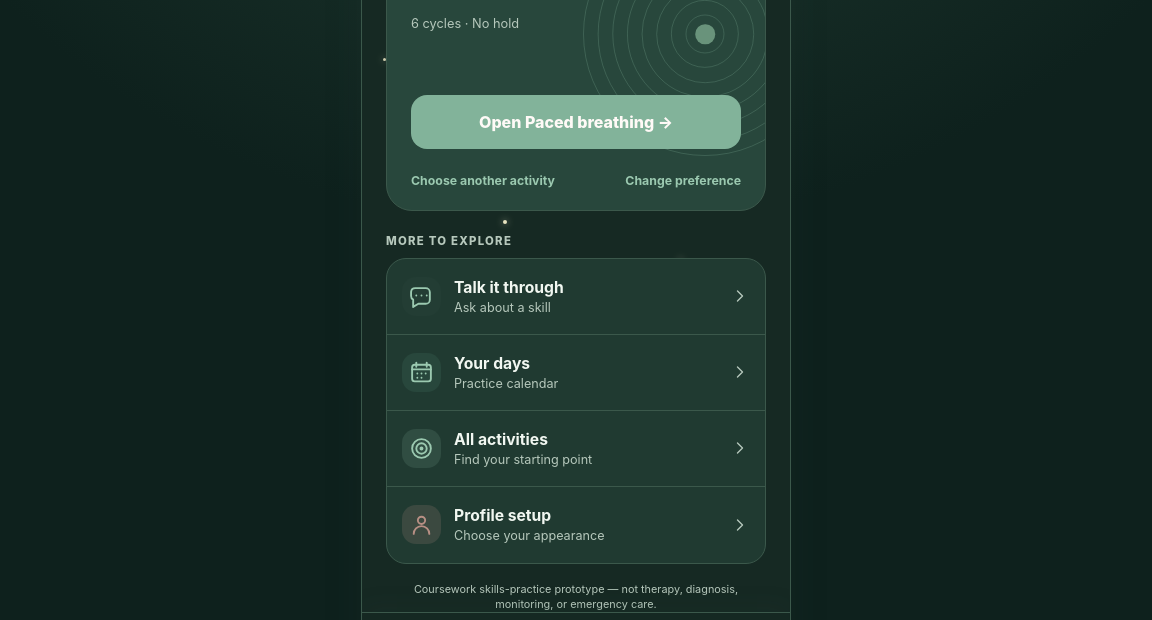
Test: ClearSpace Part 3.2 flows › keeps Crisis Support available while the fictional RAG request fails
(page scrolled)
Click the button "All activities Find your starting point": (576, 449) [387,411,765,487]
(page scrolled)
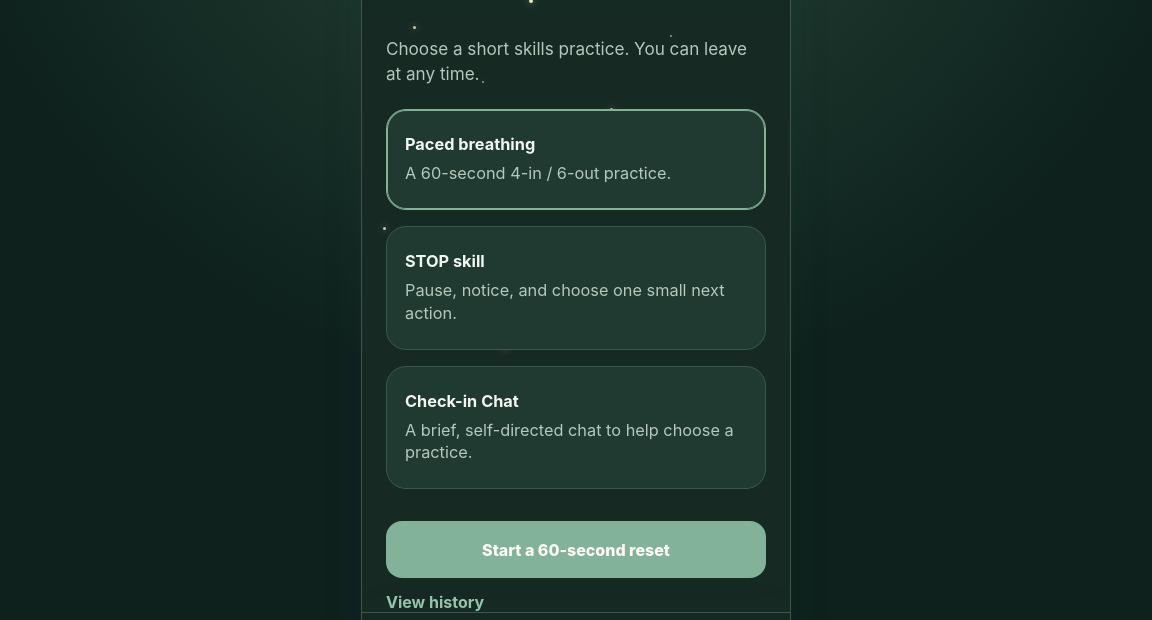
Click the button that starts with "Check-in Chat": (576, 427) [386,366,766,489]
(page scrolled)
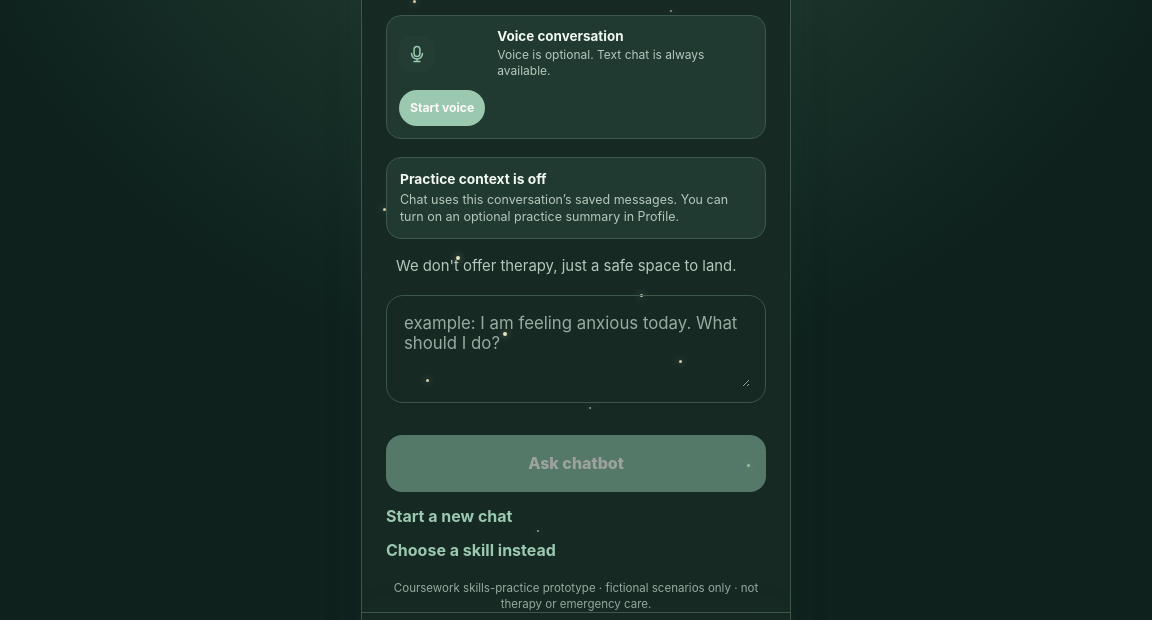
In the text box with placeholder "example: I am feeling anxious today. What should I do?": (576, 349) [402,311,750,387], type "Fictional saved context question."
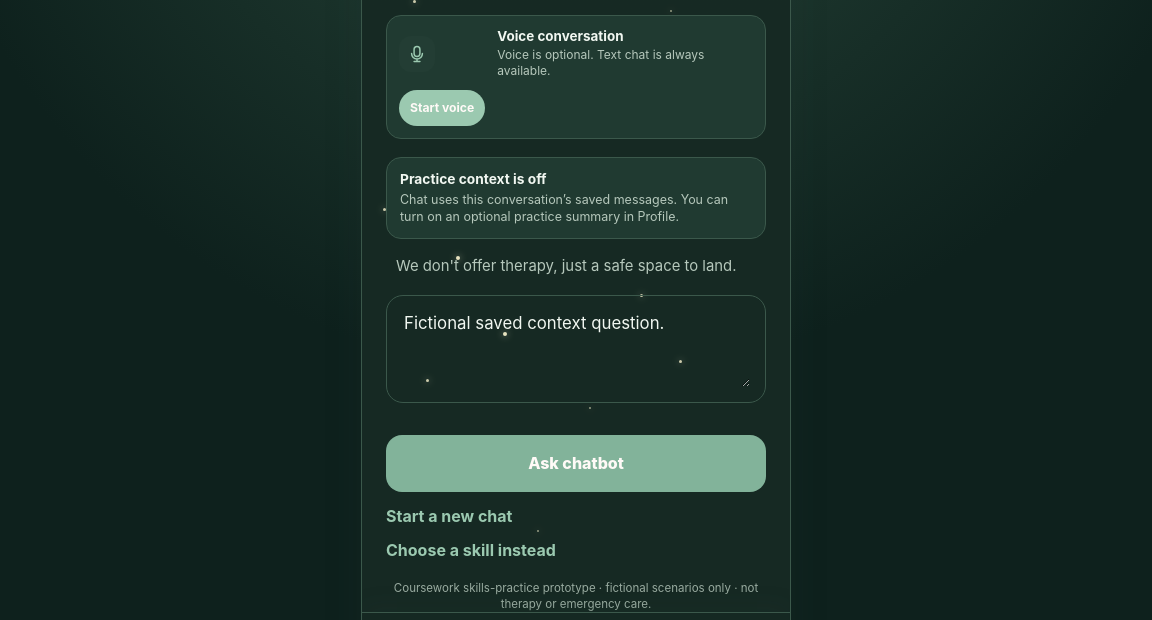
Click the button "Ask chatbot": (576, 463) [386,435,766,492]
(page scrolled)
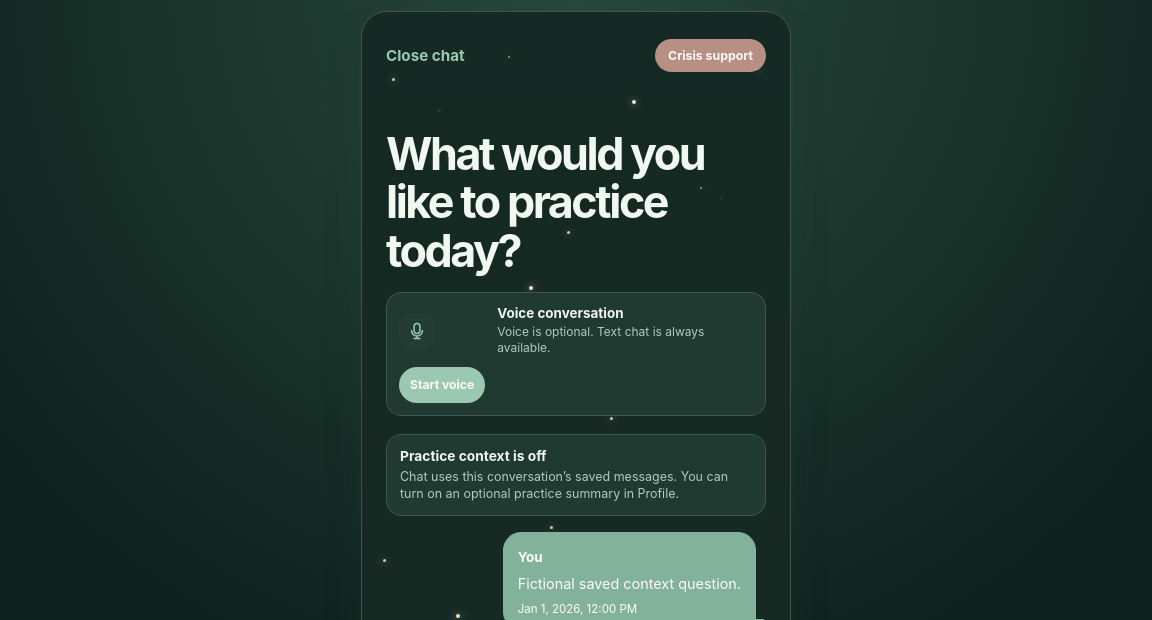
Click the button with class "crisis-button": (710, 55) [655,38,766,72]
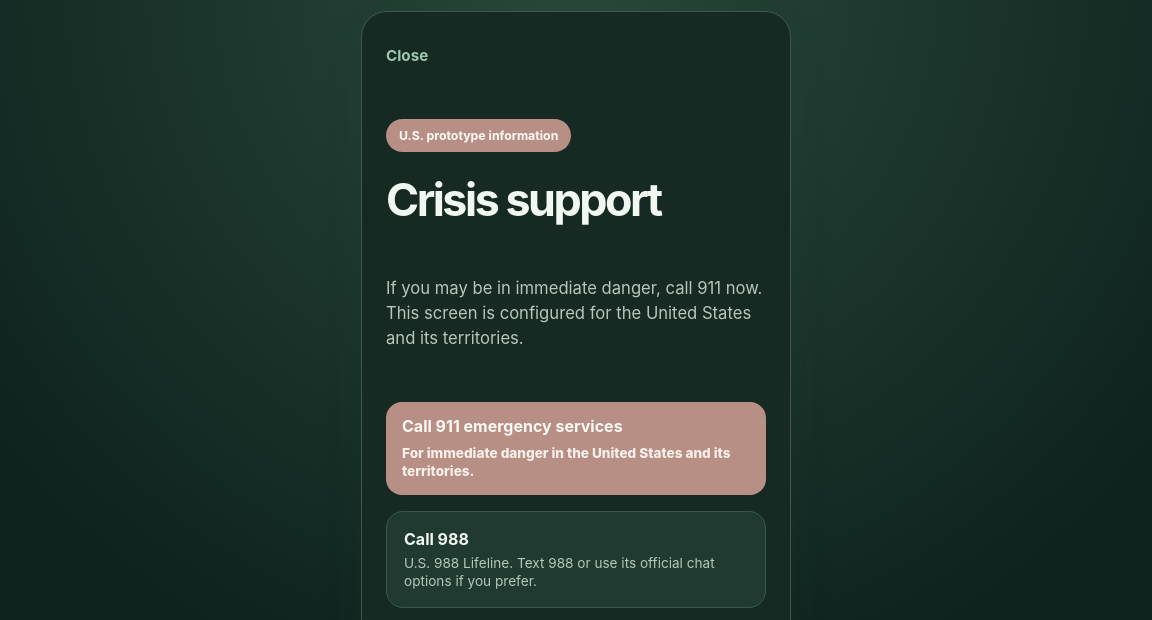
expect the heading "Crisis support" is shown: met, box [386,173,661,227]
expect the link to "tel:988" is shown: met, box [386,510,766,608]
